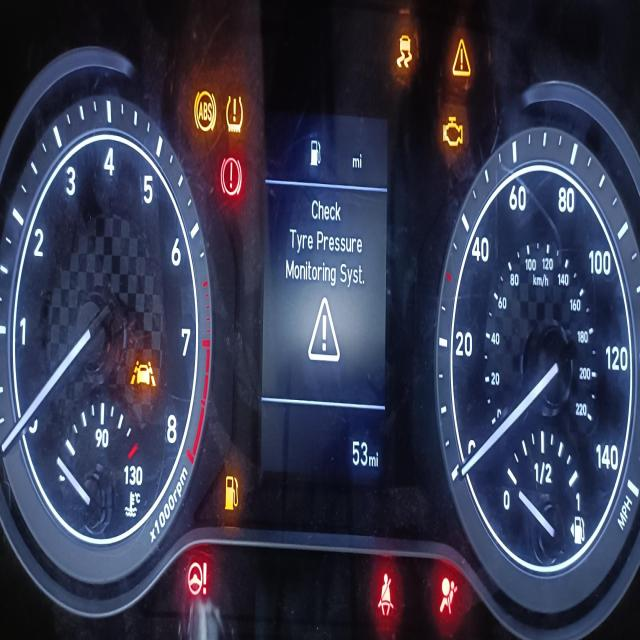ABS: (191, 76, 220, 140)
Airbag: (435, 567, 460, 619)
CriticalWarning: (447, 22, 476, 84)
EngineWarning: (435, 99, 469, 158)
HandBrakeWarning: (216, 148, 245, 208)
LowFuel: (223, 460, 246, 532)
PowerSteeringWarning: (185, 550, 212, 607)
SeatBeltWarning: (371, 567, 399, 621)
TractionControl: (396, 13, 414, 79)
TyrePressureLow: (228, 79, 245, 139)
